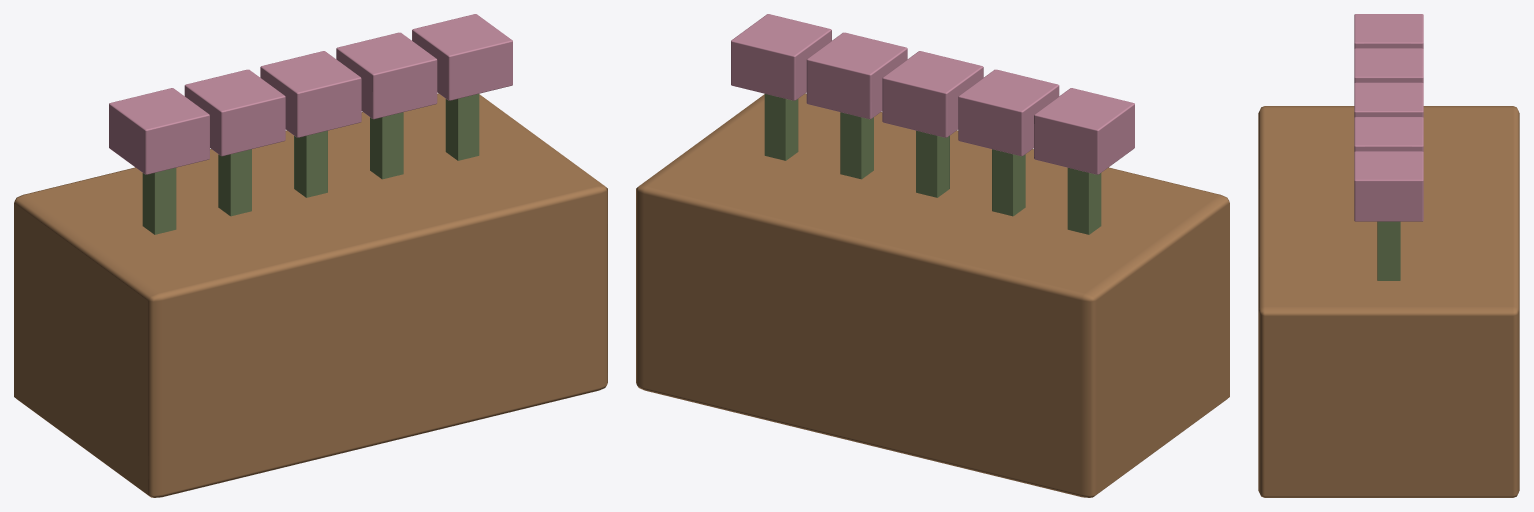
File: flower-3.glb
3 renders of one model, left to right at view 1: azimuth 30°, elevation 25°; view 2: azimuth 150°, elevation 25°; view 3: azimuth 270°, elevation 25°, orthographic. The views are drawn at different scales.
Parts seen in each view (by area): view 1: flower-3-0; view 2: flower-3-0; view 3: flower-3-0.
Boxes of the visible parts, x1,y1,x2,y2 form: flower-3-0: (14,14,607,497); flower-3-0: (636,14,1229,497); flower-3-0: (1258,14,1519,497).
Size of the model in its own units: 0.85 by 0.57 by 0.45.
